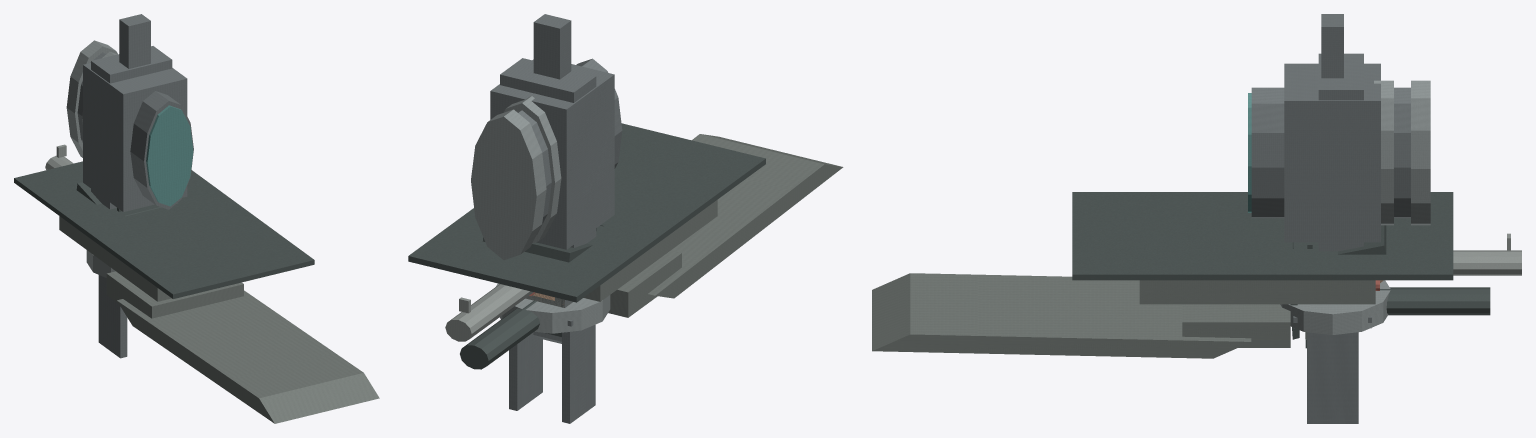
The model's file is weapon_rem870.glb.
3 renders of one model, left to right at view 1: azimuth 30°, elevation 25°; view 2: azimuth 150°, elevation 25°; view 3: azimuth 270°, elevation 25°, orthographic. The views are drawn at different scales.
Parts seen in each view (by area): view 1: weapon_rem870__L0_stock__870_tactical, weapon_rem870__L1_stock__870_tactical, weapon_rem870__L0_mount_optic__prism2, weapon_rem870__L1_mount_optic__prism2, weapon_rem870__L0_mount_optic__dot_tube, weapon_rem870__L0_mount_optic__scope4, weapon_rem870__L0_mount__sg_mount, weapon_rem870__L1_mount_optic__dot_tube, weapon_rem870__L0_mount_optic__holo, weapon_rem870__L1_mount_optic__holo, weapon_rem870__L1_mount_optic__scope4, weapon_rem870__L1_mount__sg_mount (+1 smaller); view 2: weapon_rem870__L1_stock__870_tactical, weapon_rem870__L0_stock__870_tactical, weapon_rem870__L0_mount_optic__prism2, weapon_rem870__L1_mount_optic__prism2, weapon_rem870__L0_mount_optic__scope4, weapon_rem870__L0_body, weapon_rem870__L1_mount_optic__scope4, weapon_rem870__L0_mount_optic__dot_tube, weapon_rem870__L0_mount__sg_mount, weapon_rem870__L1_mount__sg_mount, weapon_rem870__L1_body, weapon_rem870__L1_mount_optic__dot_tube (+5 smaller); view 3: weapon_rem870__L0_stock__870_tactical, weapon_rem870__L1_stock__870_tactical, weapon_rem870__L0_mount_optic__prism2, weapon_rem870__L1_mount_optic__prism2, weapon_rem870__L0_mount_optic__scope4, weapon_rem870__L0_body, weapon_rem870__L0_mount__sg_mount, weapon_rem870__L0_mount_optic__dot_tube, weapon_rem870__L1_mount_optic__scope4, weapon_rem870__L0_handguard_light__wide_light, weapon_rem870__L1_mount_optic__dot_tube, weapon_rem870__L1_mount_optic__holo (+2 smaller).
Part boxes in pixels (x1,y1,x2,y2): weapon_rem870__L0_stock__870_tactical: [15, 162, 377, 423]; weapon_rem870__L1_stock__870_tactical: [14, 161, 379, 423]; weapon_rem870__L0_mount_optic__prism2: [67, 41, 192, 209]; weapon_rem870__L1_mount_optic__prism2: [66, 40, 192, 211]; weapon_rem870__L0_mount_optic__dot_tube: [82, 14, 192, 204]; weapon_rem870__L0_mount_optic__scope4: [77, 49, 189, 207]; weapon_rem870__L0_mount__sg_mount: [99, 275, 126, 355]; weapon_rem870__L1_mount_optic__dot_tube: [82, 14, 193, 206]; weapon_rem870__L0_mount_optic__holo: [91, 46, 171, 209]; weapon_rem870__L1_mount_optic__holo: [91, 46, 172, 209]; weapon_rem870__L1_mount_optic__scope4: [78, 47, 193, 209]; weapon_rem870__L1_mount__sg_mount: [98, 275, 127, 358]; weapon_rem870__L1_stock__870_tactical: [408, 123, 843, 317]; weapon_rem870__L0_stock__870_tactical: [410, 124, 841, 316]; weapon_rem870__L0_mount_optic__prism2: [472, 64, 614, 257]; weapon_rem870__L1_mount_optic__prism2: [471, 59, 614, 259]; weapon_rem870__L0_mount_optic__scope4: [472, 59, 621, 257]; weapon_rem870__L0_body: [446, 284, 572, 368]; weapon_rem870__L1_mount_optic__scope4: [472, 58, 622, 259]; weapon_rem870__L0_mount_optic__dot_tube: [506, 14, 570, 240]; weapon_rem870__L0_mount__sg_mount: [510, 299, 587, 420]; weapon_rem870__L1_mount__sg_mount: [509, 324, 595, 423]; weapon_rem870__L1_body: [445, 286, 561, 369]; weapon_rem870__L1_mount_optic__dot_tube: [504, 14, 571, 300]; weapon_rem870__L0_stock__870_tactical: [872, 193, 1450, 352]; weapon_rem870__L1_stock__870_tactical: [872, 192, 1453, 358]; weapon_rem870__L0_mount_optic__prism2: [1276, 64, 1429, 239]; weapon_rem870__L1_mount_optic__prism2: [1276, 63, 1430, 242]; weapon_rem870__L0_mount_optic__scope4: [1252, 87, 1410, 218]; weapon_rem870__L0_body: [1305, 235, 1521, 347]; weapon_rem870__L0_mount__sg_mount: [1307, 332, 1358, 420]; weapon_rem870__L0_mount_optic__dot_tube: [1249, 14, 1392, 225]; weapon_rem870__L1_mount_optic__scope4: [1251, 87, 1410, 218]; weapon_rem870__L0_handguard_light__wide_light: [1280, 281, 1387, 334]; weapon_rem870__L1_mount_optic__dot_tube: [1248, 14, 1393, 225]; weapon_rem870__L1_mount_optic__holo: [1318, 53, 1363, 251].
Bounding box in the file's own units: 2.87 × 6.29 × 9.53.
Materials: 3 (3 with a texture image).
